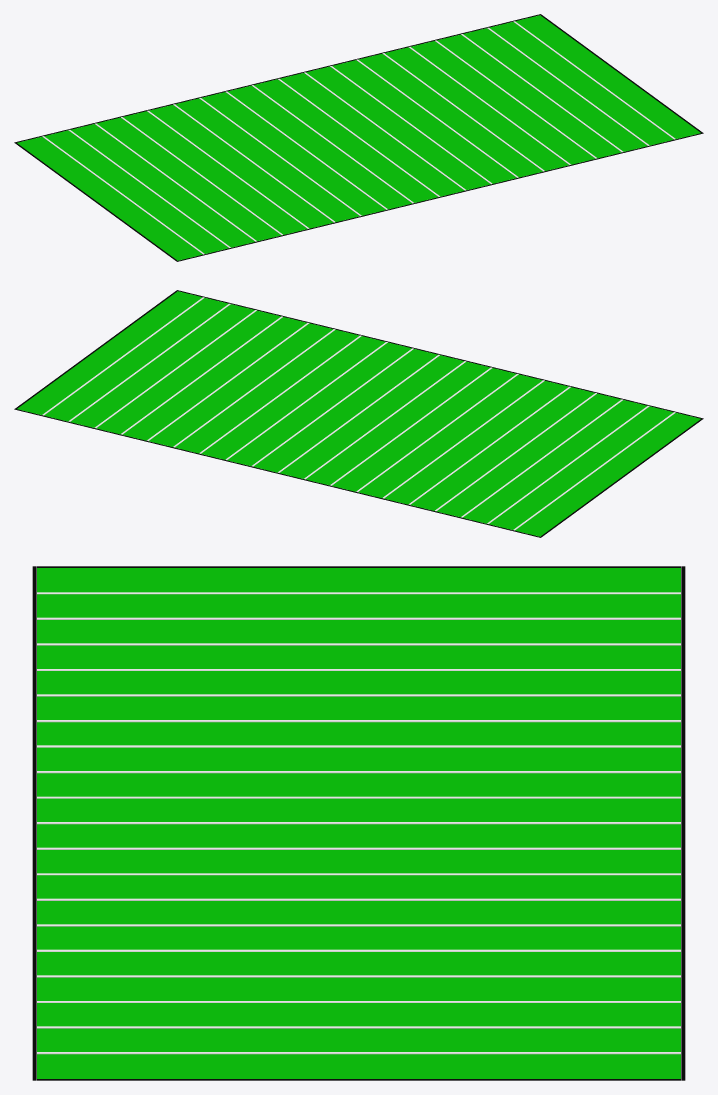
Rendered from field6.obj.
3 views of the same model, one above another, from view 1: azimuth 30°, elevation 25°; view 2: azimuth 150°, elevation 25°; view 3: azimuth 270°, elevation 25° (orthographic). The views are drawn at different scales.
Visible parts, largest first — view 1: Field, Bottom_Border, Top_Border, L40, R25, R20, R10, R5, 50, R35, L35, L30 (+10 smaller); view 2: Field, Top_Border, Bottom_Border, L40, R25, R20, R10, R5, 50, R35, L35, L30 (+10 smaller); view 3: Field, Bottom_Border, Top_Border, 50, R45, L45, L40, R40, R35, L35, L30, R30 (+12 smaller).
Boxes of the visible parts, left/top/right/bottom form: Field: left=17, top=15, right=700, bottom=260; Bottom_Border: left=176, top=132, right=703, bottom=261; Top_Border: left=14, top=14, right=541, bottom=143; L40: left=225, top=91, right=387, bottom=209; R25: left=408, top=46, right=571, bottom=165; R20: left=435, top=40, right=597, bottom=158; R10: left=487, top=27, right=649, bottom=145; R5: left=513, top=21, right=675, bottom=139; 50: left=278, top=78, right=440, bottom=196; R35: left=356, top=59, right=518, bottom=177; L35: left=199, top=97, right=361, bottom=216; L30: left=173, top=104, right=335, bottom=222; Field: left=17, top=291, right=700, bottom=536; Top_Border: left=14, top=408, right=541, bottom=537; Bottom_Border: left=176, top=290, right=703, bottom=419; L40: left=330, top=367, right=492, bottom=485; R25: left=146, top=322, right=309, bottom=441; R20: left=120, top=316, right=282, bottom=434; R10: left=68, top=303, right=230, bottom=421; R5: left=42, top=297, right=204, bottom=415; 50: left=277, top=354, right=439, bottom=472; R35: left=199, top=335, right=361, bottom=453; L35: left=356, top=373, right=518, bottom=492; L30: left=382, top=380, right=544, bottom=498; Field: left=37, top=568, right=680, bottom=1078; Bottom_Border: left=32, top=566, right=36, bottom=1080; Top_Border: left=681, top=566, right=685, bottom=1080; 50: left=37, top=822, right=680, bottom=824; R45: left=37, top=847, right=680, bottom=849; L45: left=37, top=796, right=680, bottom=798; L40: left=37, top=771, right=680, bottom=773; R40: left=37, top=873, right=680, bottom=875; R35: left=37, top=898, right=680, bottom=900; L35: left=37, top=745, right=680, bottom=747; L30: left=37, top=720, right=680, bottom=722; R30: left=37, top=924, right=680, bottom=926.
Bounding box in the file's own units: 614 × 0.6096 × 329.
